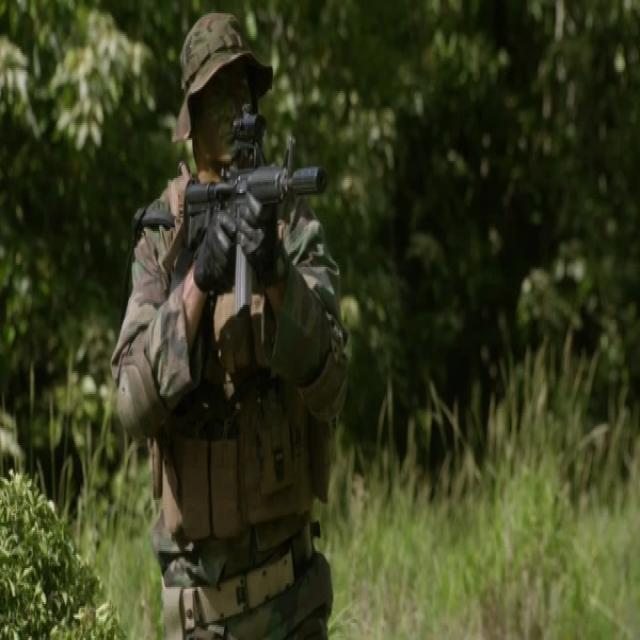rifle: (183, 95, 334, 319)
